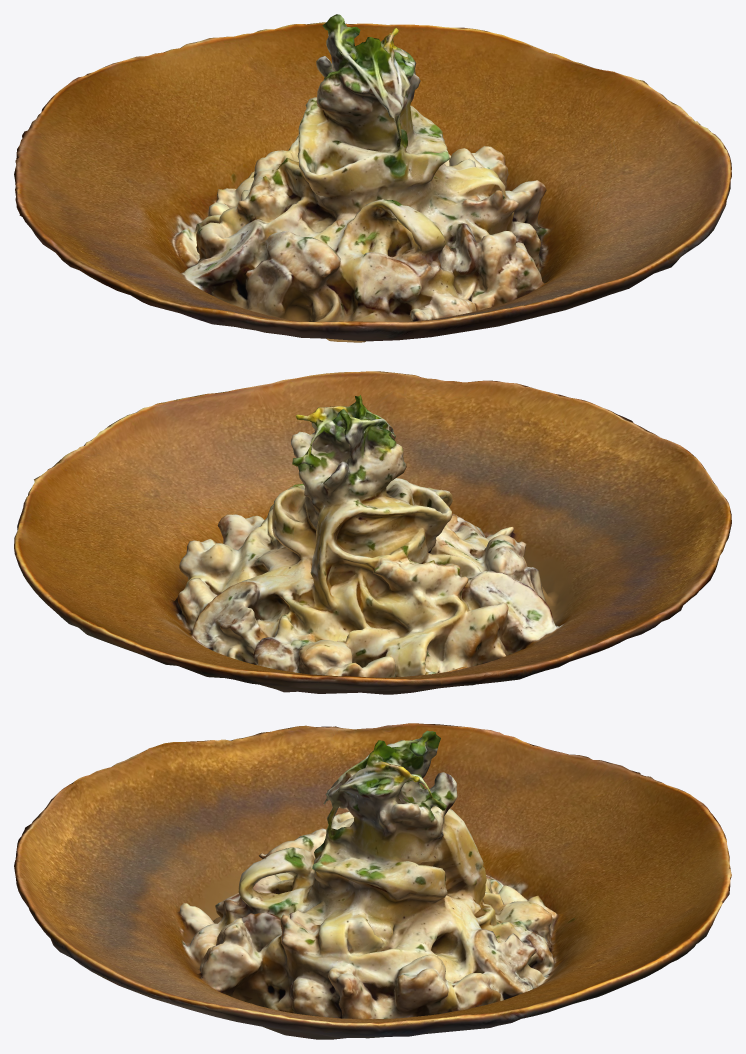
File: tagliatelles-poulet-champignons.glb
The picture shows the model from 3 angles, top to bottom: view 1: azimuth 30°, elevation 25°; view 2: azimuth 150°, elevation 25°; view 3: azimuth 270°, elevation 25°; orthographic projection.
Visible parts, largest first — view 1: /ObjectCapture/Geometry/Mesh; view 2: /ObjectCapture/Geometry/Mesh; view 3: /ObjectCapture/Geometry/Mesh.
Part boxes in pixels (<box>): /ObjectCapture/Geometry/Mesh: <box>14,14,731,342</box>; /ObjectCapture/Geometry/Mesh: <box>14,371,731,694</box>; /ObjectCapture/Geometry/Mesh: <box>14,723,731,1039</box>.
Bounding box in the file's own units: 0.2664 × 0.1053 × 0.2713.
1 material, 1 textured.
